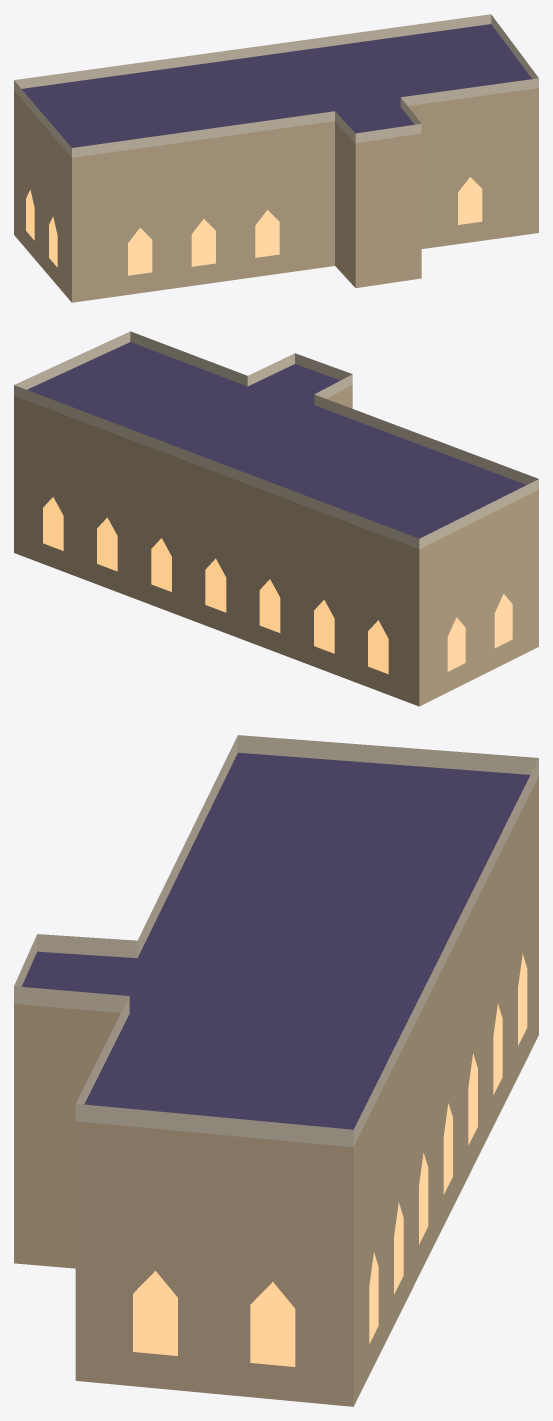
The model's file is b-072-mcintosh-art-gallery.glb.
The picture shows the model from 3 angles, top to bottom: view 1: azimuth 30°, elevation 25°; view 2: azimuth 150°, elevation 25°; view 3: azimuth 270°, elevation 25°; orthographic projection. The views are drawn at different scales.
Visible parts, largest first — view 1: campus/b-072-mcintosh-art-gallery-0; view 2: campus/b-072-mcintosh-art-gallery-0; view 3: campus/b-072-mcintosh-art-gallery-0.
Boxes of the visible parts, x1,y1,x2,y2 form: campus/b-072-mcintosh-art-gallery-0: [14, 14, 538, 302]; campus/b-072-mcintosh-art-gallery-0: [14, 331, 538, 706]; campus/b-072-mcintosh-art-gallery-0: [14, 735, 538, 1406].
Size of the model in its own units: 26.41 by 8.65 by 14.85.
